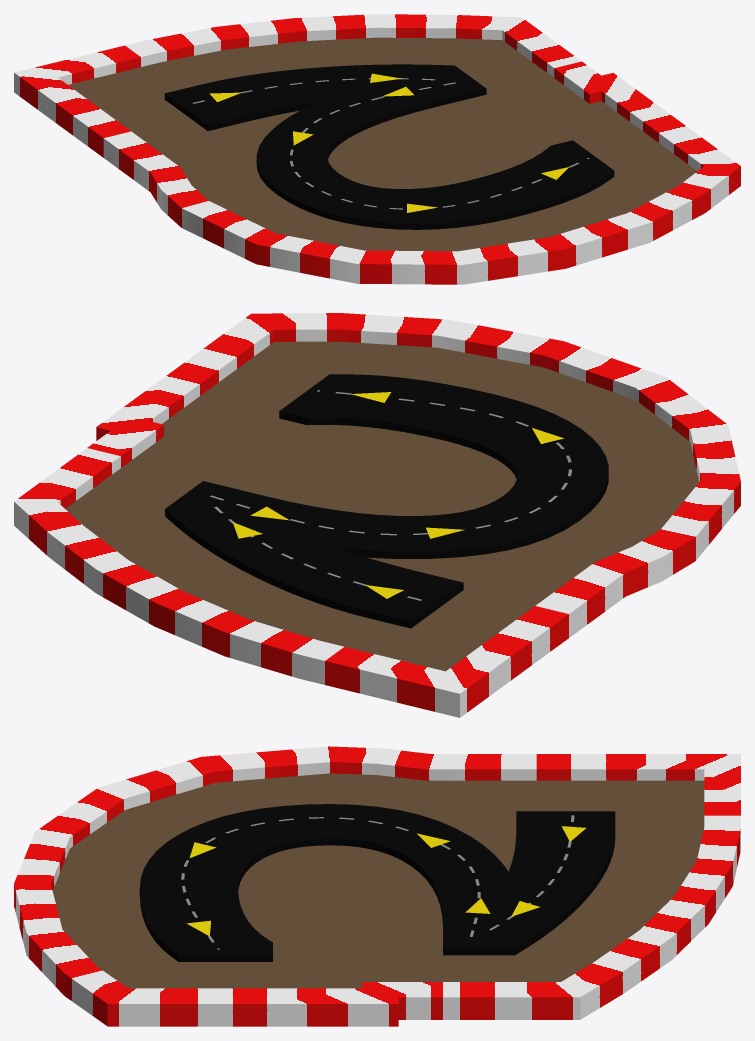
3 renders of one model, top to bottom at view 1: azimuth 30°, elevation 25°; view 2: azimuth 150°, elevation 25°; view 3: azimuth 270°, elevation 25°, orthographic. The views are drawn at different scales.
Visible parts, largest first — view 1: 7a2_floor, 7a2_coll, 7a2, line1; view 2: 7a2_floor, 7a2_coll, 7a2, line1; view 3: 7a2_floor, 7a2_coll, 7a2, line1.
Part boxes in pixels (box(x1,y1,x2,y2)): 7a2_floor: box(68, 37, 697, 251); 7a2_coll: box(14, 14, 740, 284); 7a2: box(164, 64, 614, 229); line1: box(290, 82, 589, 209); 7a2_floor: box(65, 341, 698, 671); 7a2_coll: box(14, 313, 740, 717); 7a2: box(165, 374, 608, 628); line1: box(210, 390, 571, 535); 7a2_floor: box(52, 773, 704, 988); 7a2_coll: box(14, 746, 740, 1026); 7a2: box(139, 804, 615, 961); line1: box(181, 817, 480, 949).
Bounding box in the file's own units: 800 × 32.77 × 955.
